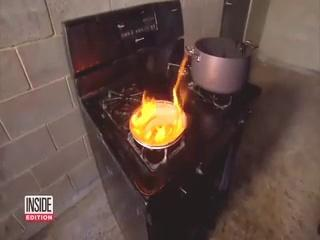Fire: (128, 77, 196, 152)
